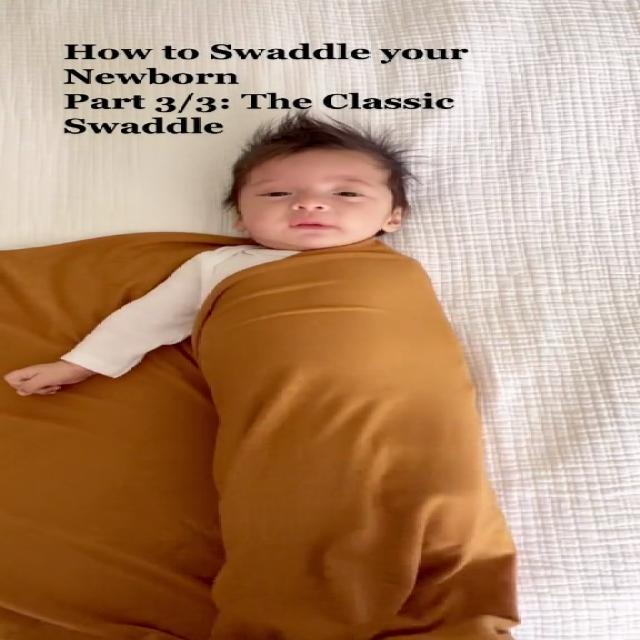baby: (0, 124, 567, 640)
